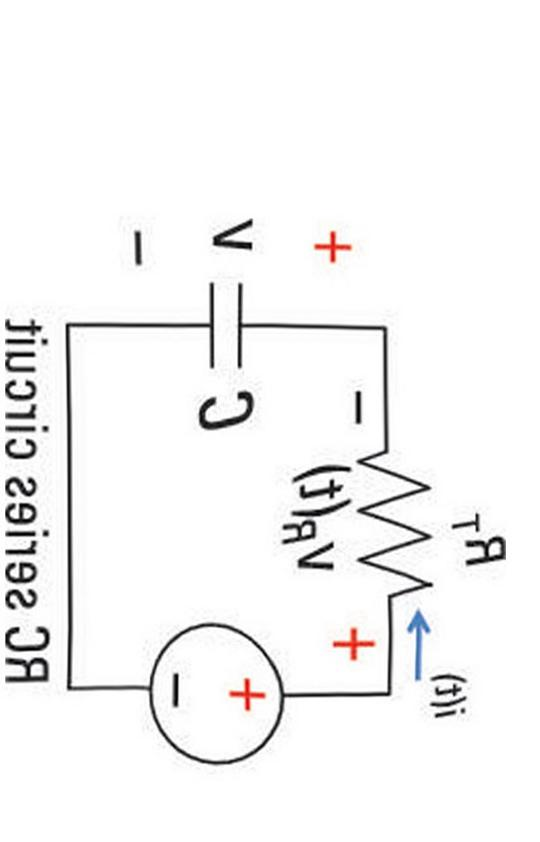Battery: (116, 604, 301, 786)
